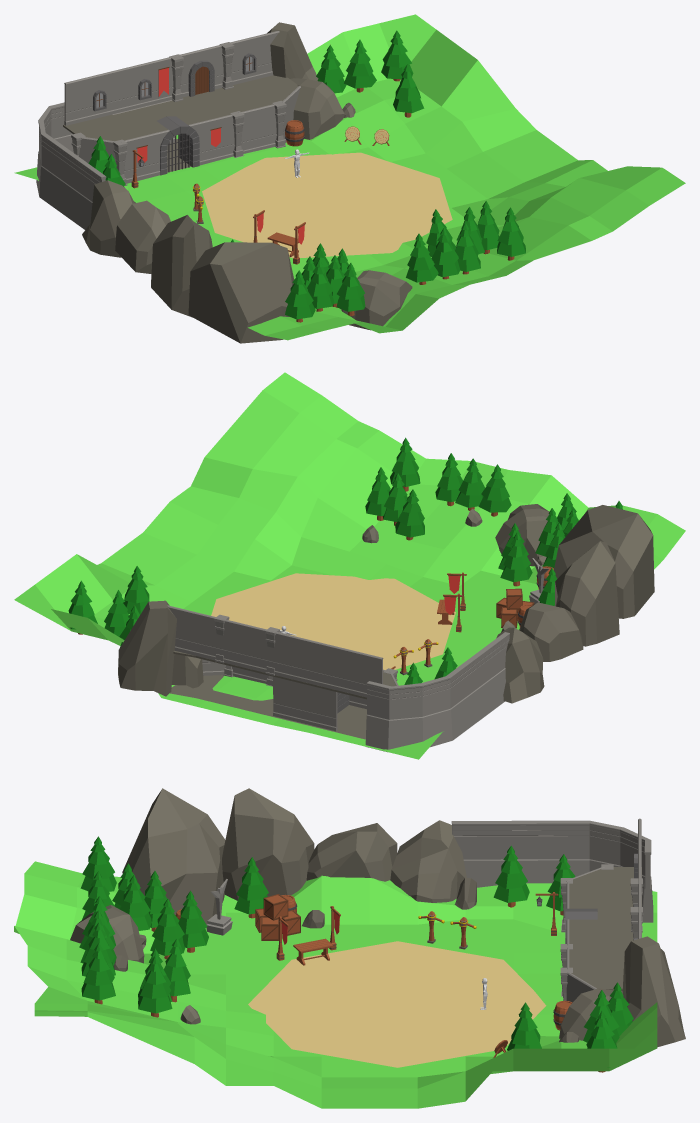
File: OvercomeAssets.fbx
3 views of the same model, one above another, from view 1: azimuth 30°, elevation 25°; view 2: azimuth 150°, elevation 25°; view 3: azimuth 270°, elevation 25° (orthographic). The views are drawn at different scales.
Parts seen in each view (by area): view 1: Ground.001, Circle, rock_5.005, Wall.003, Floor.001, Wall_2 hight.001, rock_5.004, rock_5.003, rock_6.002, rock_6.001, rock_5.001, rock_5.002 (+20 smaller); view 2: Ground.001, Circle, Wall_2 hight.001, Wall.003, rock_5.005, rock_5.004, rock_5.002, Wall.009, rock_5.003, Floor.002, rock_6.002, rock_6.001 (+13 smaller); view 3: Ground.001, Circle, Wall_2 hight.001, rock_5.005, rock_5.004, Floor.001, rock_6.002, rock_5.002, rock_5.003, rock_6.001, Tree_2.003, Tree_2.016 (+23 smaller).
Part boxes in pixels (x1=…): Ground.001: x1=14, y1=14, x2=685, y2=340; Circle: x1=202, y1=152, x2=452, y2=257; rock_5.005: x1=188, y1=242, x2=294, y2=343; Wall.003: x1=64, y1=31, x2=279, y2=125; Floor.001: x1=63, y1=75, x2=298, y2=141; Wall_2 hight.001: x1=36, y1=102, x2=106, y2=229; rock_5.004: x1=151, y1=215, x2=212, y2=317; rock_5.003: x1=115, y1=200, x2=170, y2=273; rock_6.002: x1=82, y1=180, x2=135, y2=257; rock_6.001: x1=341, y1=270, x2=412, y2=330; rock_5.001: x1=290, y1=78, x2=344, y2=139; rock_5.002: x1=267, y1=22, x2=318, y2=80; Ground.001: x1=14, y1=372, x2=685, y2=759; Circle: x1=211, y1=573, x2=455, y2=669; Wall_2 hight.001: x1=365, y1=632, x2=509, y2=752; Wall.003: x1=167, y1=605, x2=383, y2=697; rock_5.005: x1=554, y1=505, x2=654, y2=618; rock_5.004: x1=554, y1=541, x2=619, y2=646; rock_5.002: x1=118, y1=600, x2=176, y2=696; Wall.009: x1=273, y1=676, x2=337, y2=731; rock_5.003: x1=519, y1=602, x2=583, y2=661; Floor.002: x1=170, y1=675, x2=366, y2=739; rock_6.002: x1=496, y1=627, x2=544, y2=703; rock_6.001: x1=495, y1=504, x2=549, y2=566; Ground.001: x1=14, y1=861, x2=657, y2=1108; Circle: x1=248, y1=941, x2=546, y2=1067; Wall_2 hight.001: x1=451, y1=820, x2=653, y2=922; rock_5.005: x1=122, y1=788, x2=225, y2=924; rock_5.004: x1=222, y1=788, x2=314, y2=900; Floor.001: x1=569, y1=867, x2=641, y2=990; rock_6.002: x1=390, y1=820, x2=466, y2=902; rock_5.002: x1=622, y1=936, x2=685, y2=1047; rock_5.003: x1=306, y1=823, x2=397, y2=881; rock_6.001: x1=70, y1=905, x2=144, y2=963; Tree_2.003: x1=493, y1=845, x2=529, y2=907; Tree_2.016: x1=138, y1=956, x2=172, y2=1017.
Size of the model in its own units: 6548 by 1368 by 7479.
